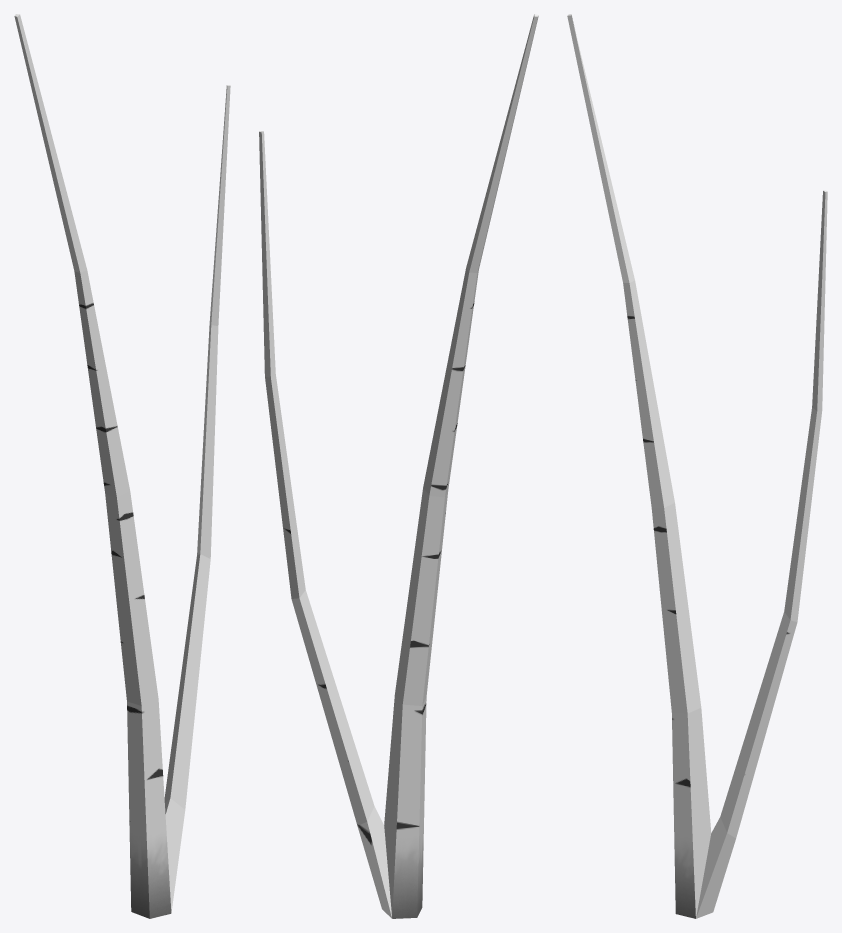
Rendered from Birch_Tree_NoLeaves_m_Snow_BT_05.fbx.
3 views of the same model, side by side, from view 1: azimuth 30°, elevation 25°; view 2: azimuth 150°, elevation 25°; view 3: azimuth 330°, elevation 25° (orthographic). The views are drawn at different scales.
Parts seen in each view (by area): view 1: Birch_Tree_NoLeaves_m_Snow_BT_05; view 2: Birch_Tree_NoLeaves_m_Snow_BT_05; view 3: Birch_Tree_NoLeaves_m_Snow_BT_05.
Boxes of the visible parts, left/top/right/bottom form: Birch_Tree_NoLeaves_m_Snow_BT_05: left=14, top=14, right=230, bottom=918; Birch_Tree_NoLeaves_m_Snow_BT_05: left=259, top=14, right=538, bottom=918; Birch_Tree_NoLeaves_m_Snow_BT_05: left=567, top=14, right=827, bottom=918.
Size of the model in its own units: 170 by 610 by 54.44.
